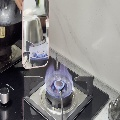fire: (44, 61, 73, 98)
